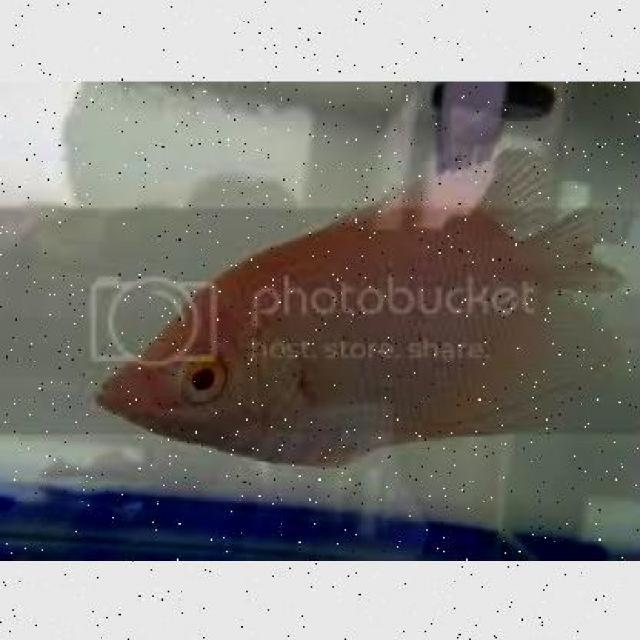gurame: (99, 204, 639, 470)
